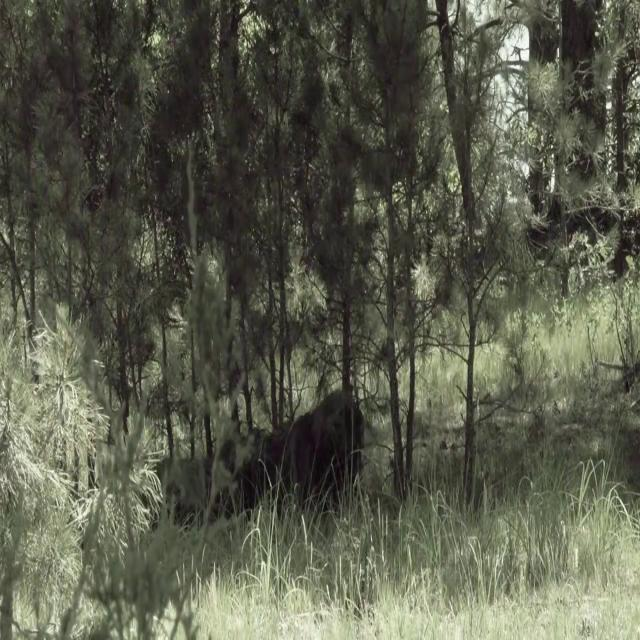Camouflage: (226, 394, 365, 514)
